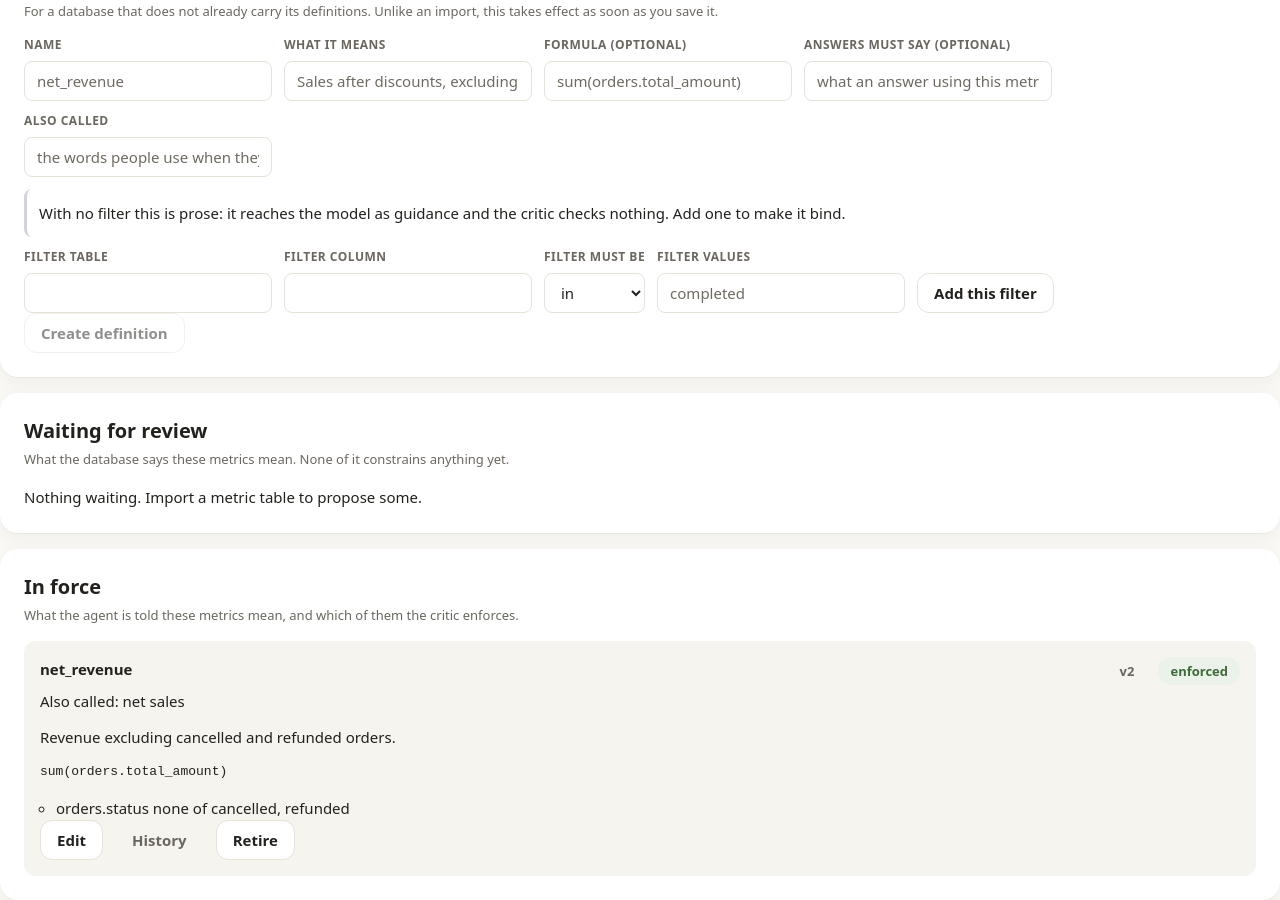
<Definitions /> › says plainly when a definition has no recorded history
(page scrolled)
Click the button "History" at (159, 840), box top-left (115, 820), bottom-right (204, 860)
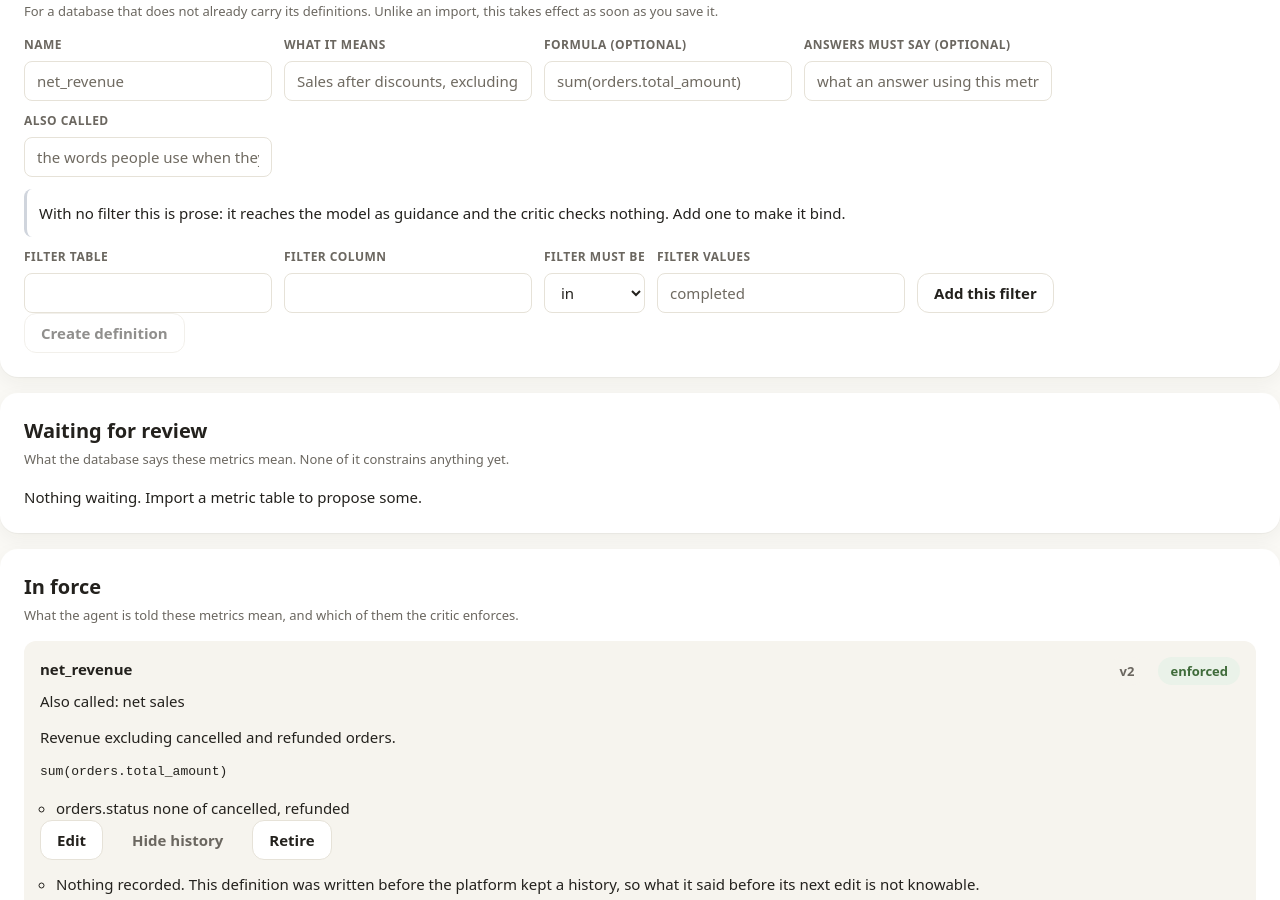
Check: the list item "Nothing recorded" is shown, box top-left (56, 874), bottom-right (979, 894)
